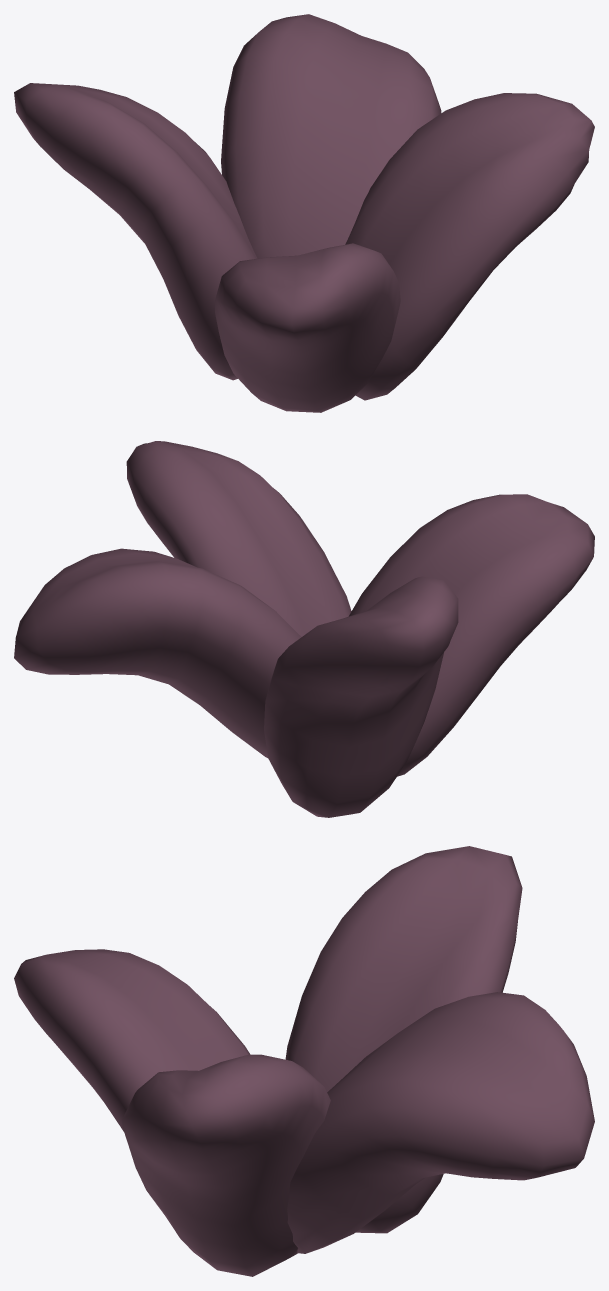
The model's file is Plant_B_01.fbx.
The picture shows the model from 3 angles, top to bottom: view 1: azimuth 30°, elevation 25°; view 2: azimuth 150°, elevation 25°; view 3: azimuth 270°, elevation 25°; orthographic projection. The views are drawn at different scales.
Parts seen in each view (by area): view 1: Plant_B_01_LOD0; view 2: Plant_B_01_LOD0; view 3: Plant_B_01_LOD0.
Boxes of the visible parts, x1=… form: Plant_B_01_LOD0: x1=14, y1=14, x2=594, y2=412; Plant_B_01_LOD0: x1=14, y1=441, x2=594, y2=817; Plant_B_01_LOD0: x1=14, y1=846, x2=594, y2=1276.
Size of what is drawn, in the model's own units: 445 by 280 by 466.
